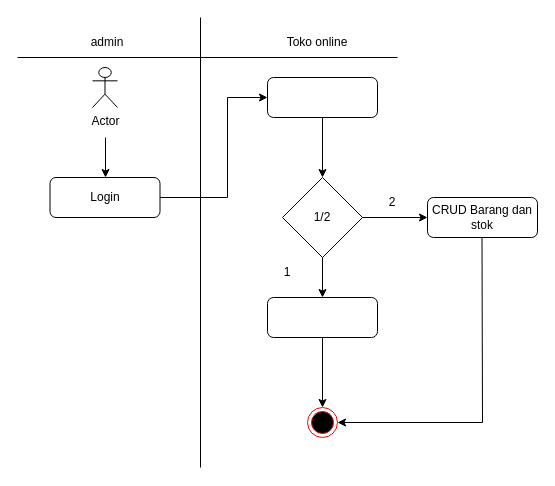
Some shapes in this 555 by 486 pixel diagram are drawn without their labels. The shapes that lost their labels are listed below. From the top down, each one's centre as x and y in pixels, then its label:
At pixel 322 97: "Dashboard".
At pixel 322 317: "Invoice dan barang di proses".
